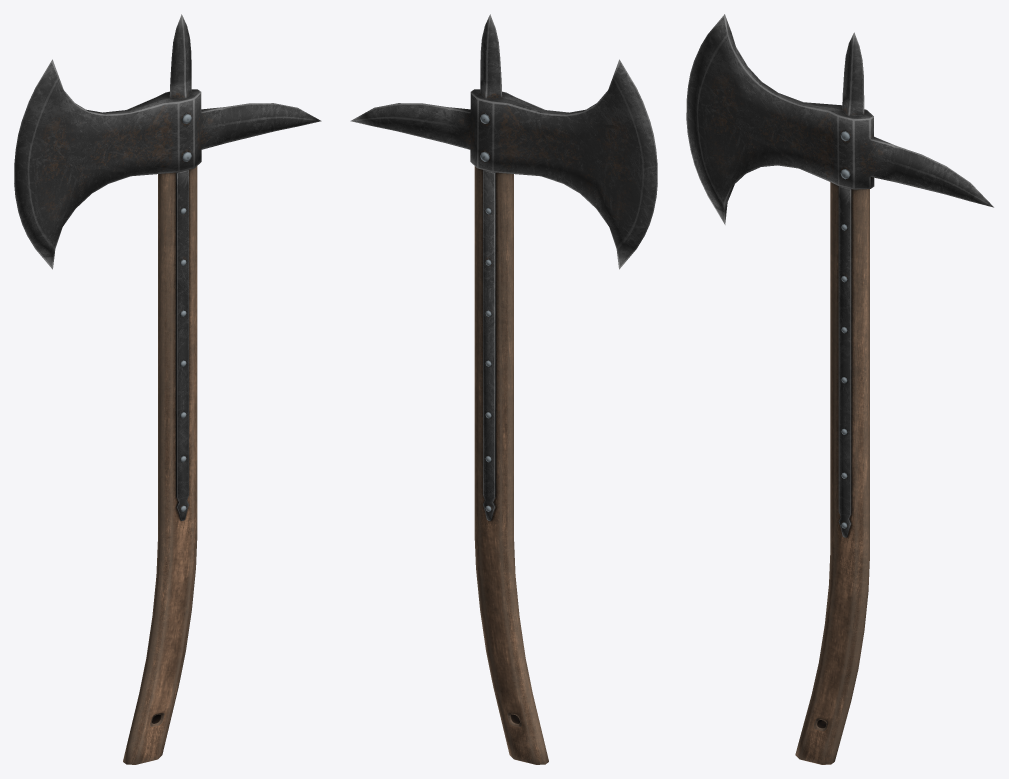
Rendered from SM_Axe_01.fbx.
The picture shows the model from 3 angles, left to right: view 1: azimuth 30°, elevation 25°; view 2: azimuth 150°, elevation 25°; view 3: azimuth 330°, elevation 25°; orthographic projection.
Visible parts, largest first — view 1: SM_Axe_01_LOD0; view 2: SM_Axe_01_LOD0; view 3: SM_Axe_01_LOD0.
Part boxes in pixels (<box>): SM_Axe_01_LOD0: <box>14,14,321,764</box>; SM_Axe_01_LOD0: <box>350,14,657,764</box>; SM_Axe_01_LOD0: <box>686,14,993,764</box>.
Size of the model in its own units: 38.08 by 3.42 by 87.01.
Materials: 1 (1 with a texture image).
